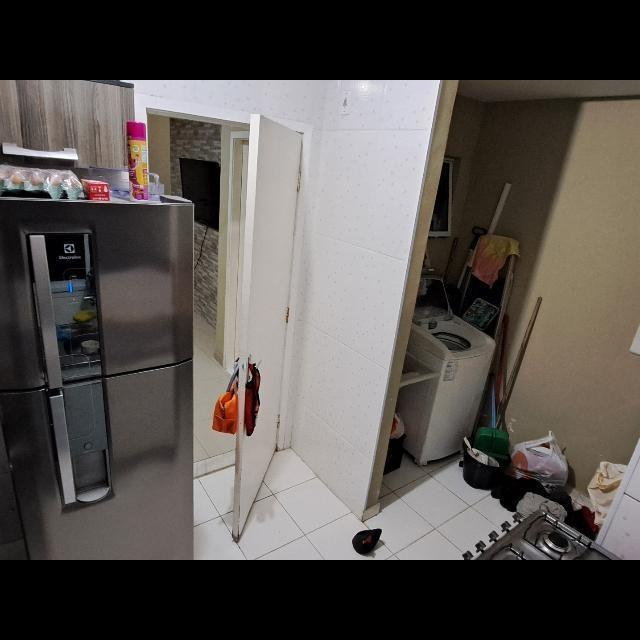door: (216, 109, 304, 538)
